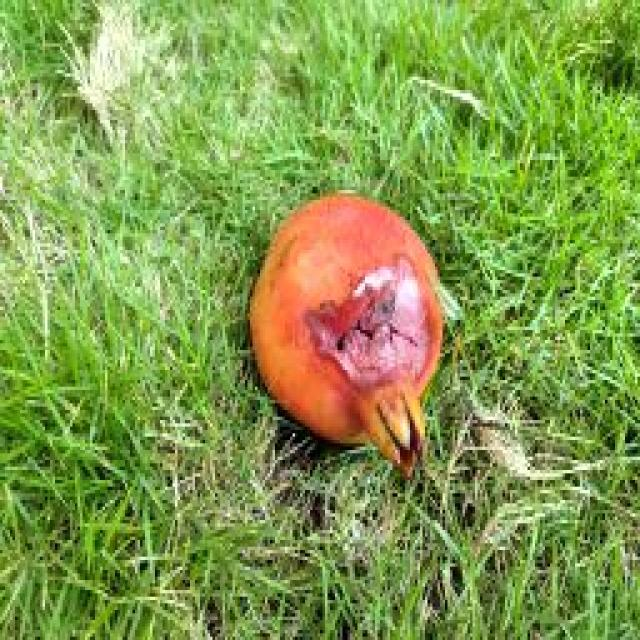Rotten: (245, 191, 448, 470)
